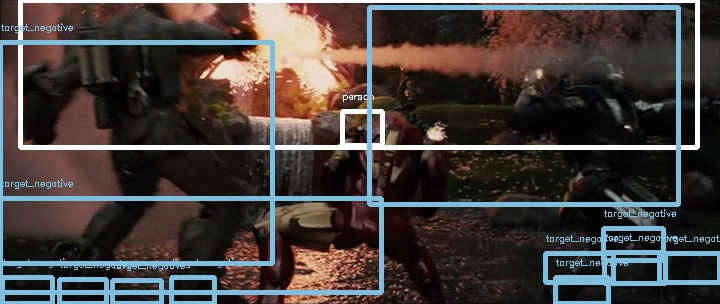person: (368, 106, 410, 143), (367, 106, 409, 143), (369, 106, 411, 143), (368, 105, 410, 142), (368, 107, 410, 144)
target_negative: (503, 266, 718, 294), (425, 109, 579, 147), (190, 80, 429, 95), (3, 190, 213, 206), (478, 263, 645, 281), (546, 281, 658, 295)
